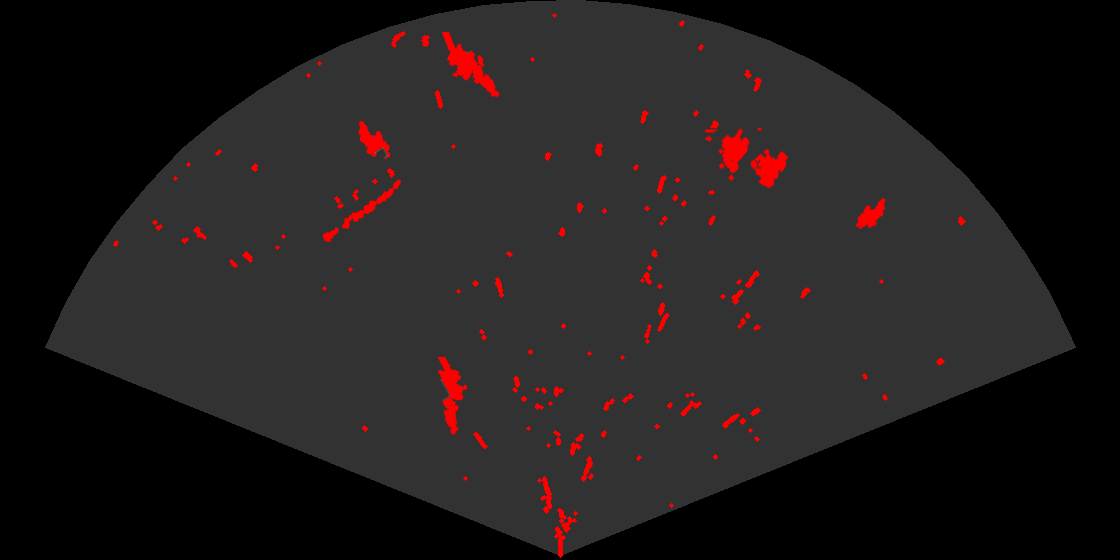AUV: (357, 119, 392, 161), (854, 196, 888, 231)
cage: (705, 128, 790, 190)
chain: (321, 178, 403, 244)
frogman: (440, 32, 501, 99), (436, 357, 469, 437)
